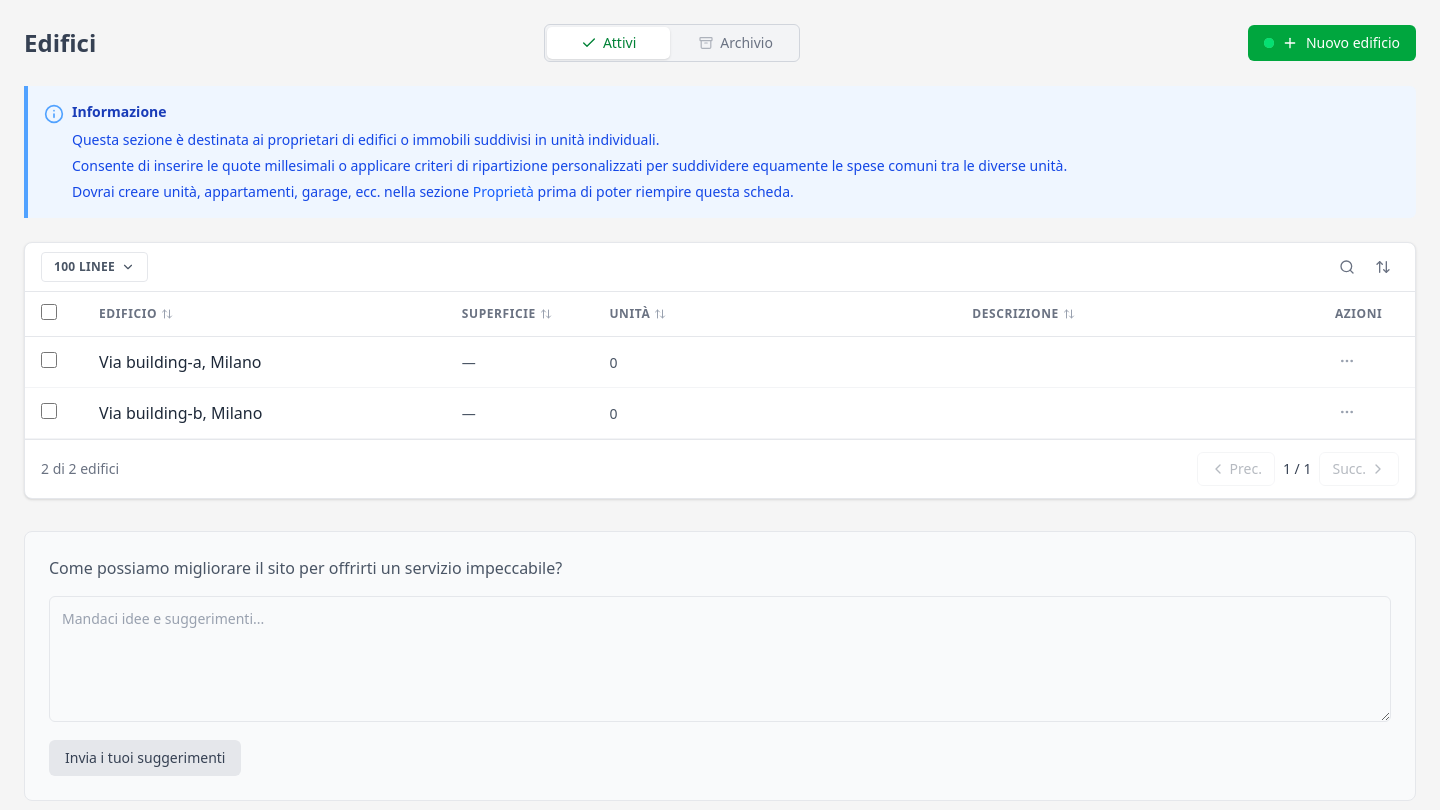
Scenario: A5.2 building lifecycle actions › A5.2-05 preserves bulk archive selection on cancel and clears it on success
This screenshot has width=1440, height=810.
Click the checkbox next to "Via building-a, Milano". click: x=49, y=360
box: x1=41 y1=352 x2=57 y2=368
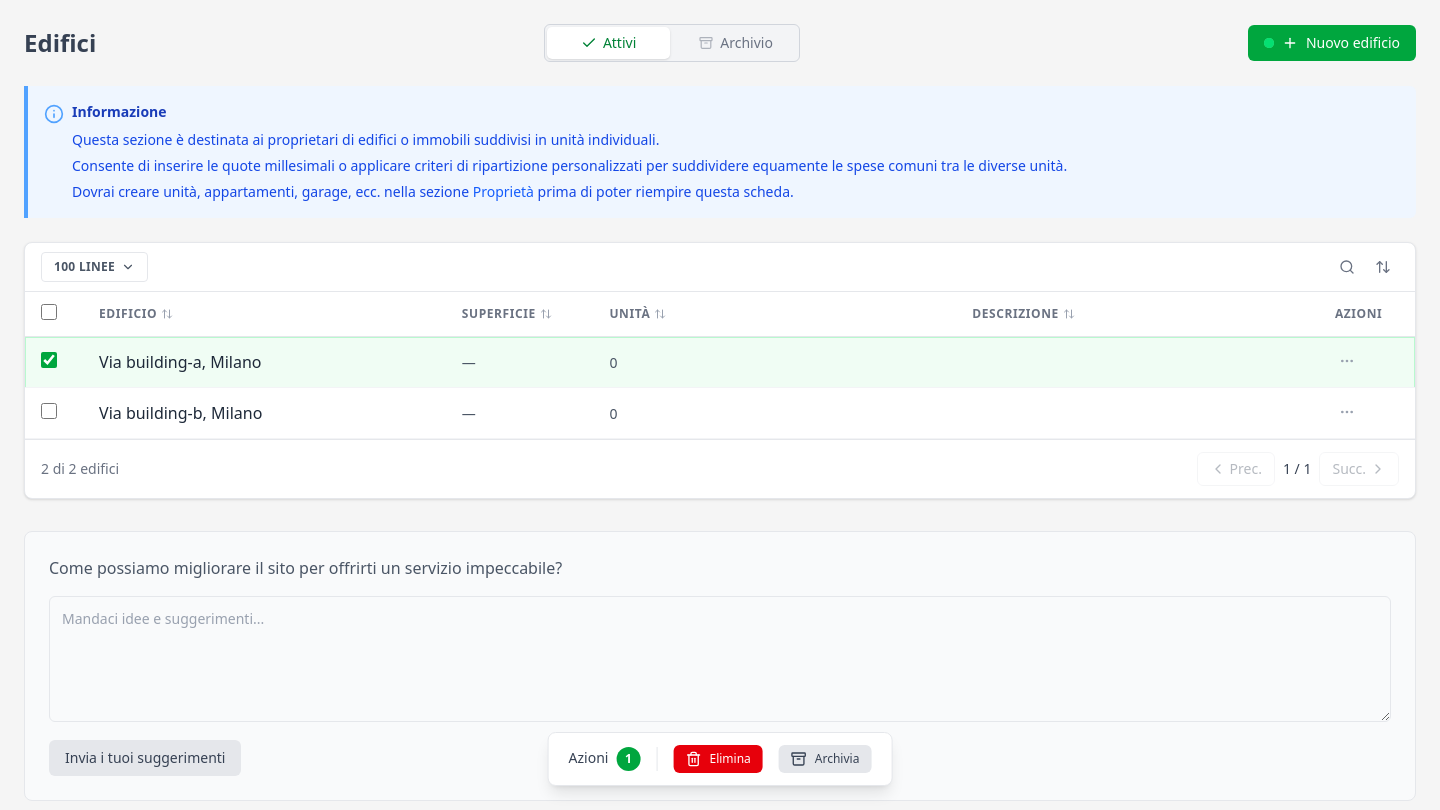
Click the checkbox next to "Via building-b, Milano". click: x=49, y=411
box: x1=41 y1=403 x2=57 y2=419
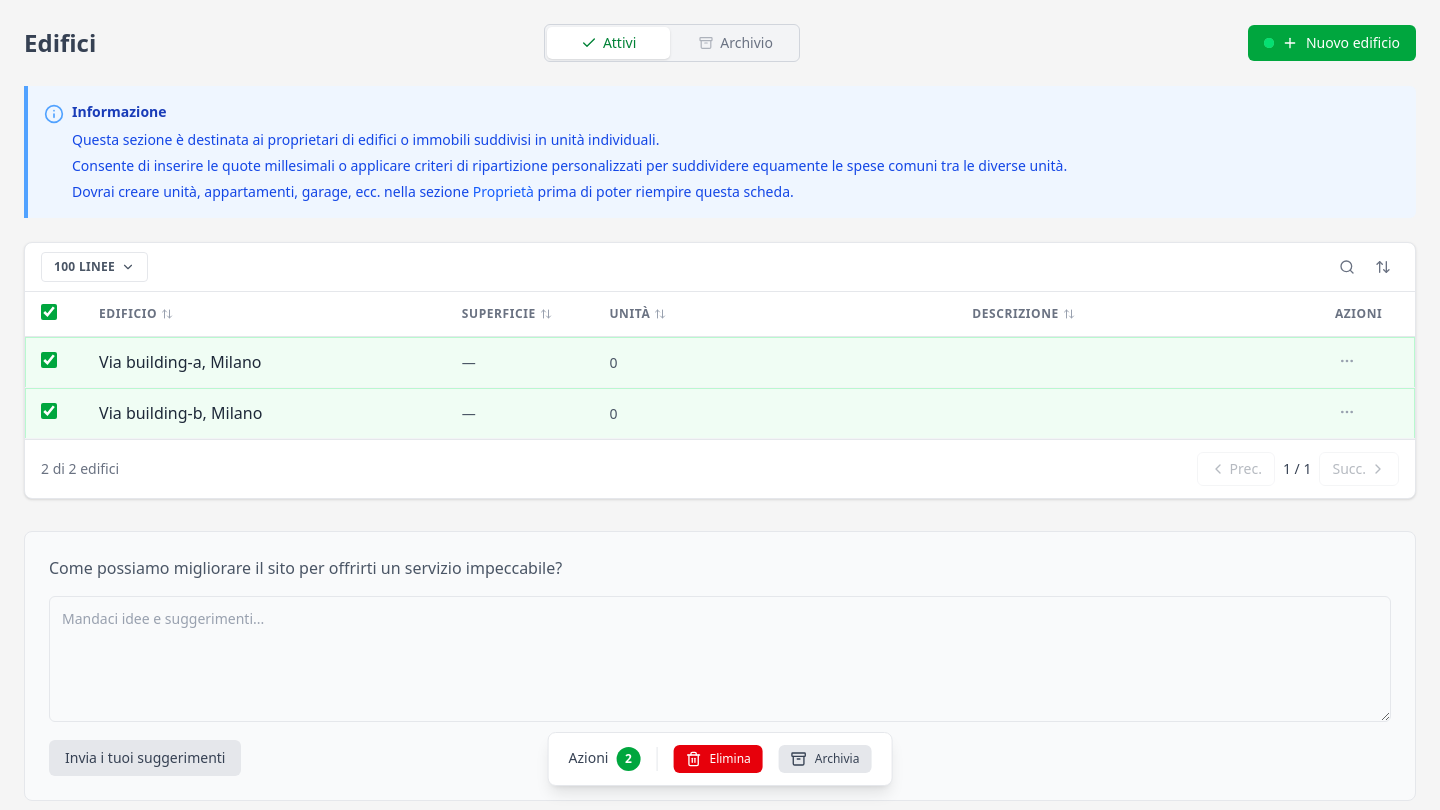
Expected: the button "Archivia" is shown
Click the button "Archivia". click: x=825, y=759
box: x1=779 y1=745 x2=871 y2=773
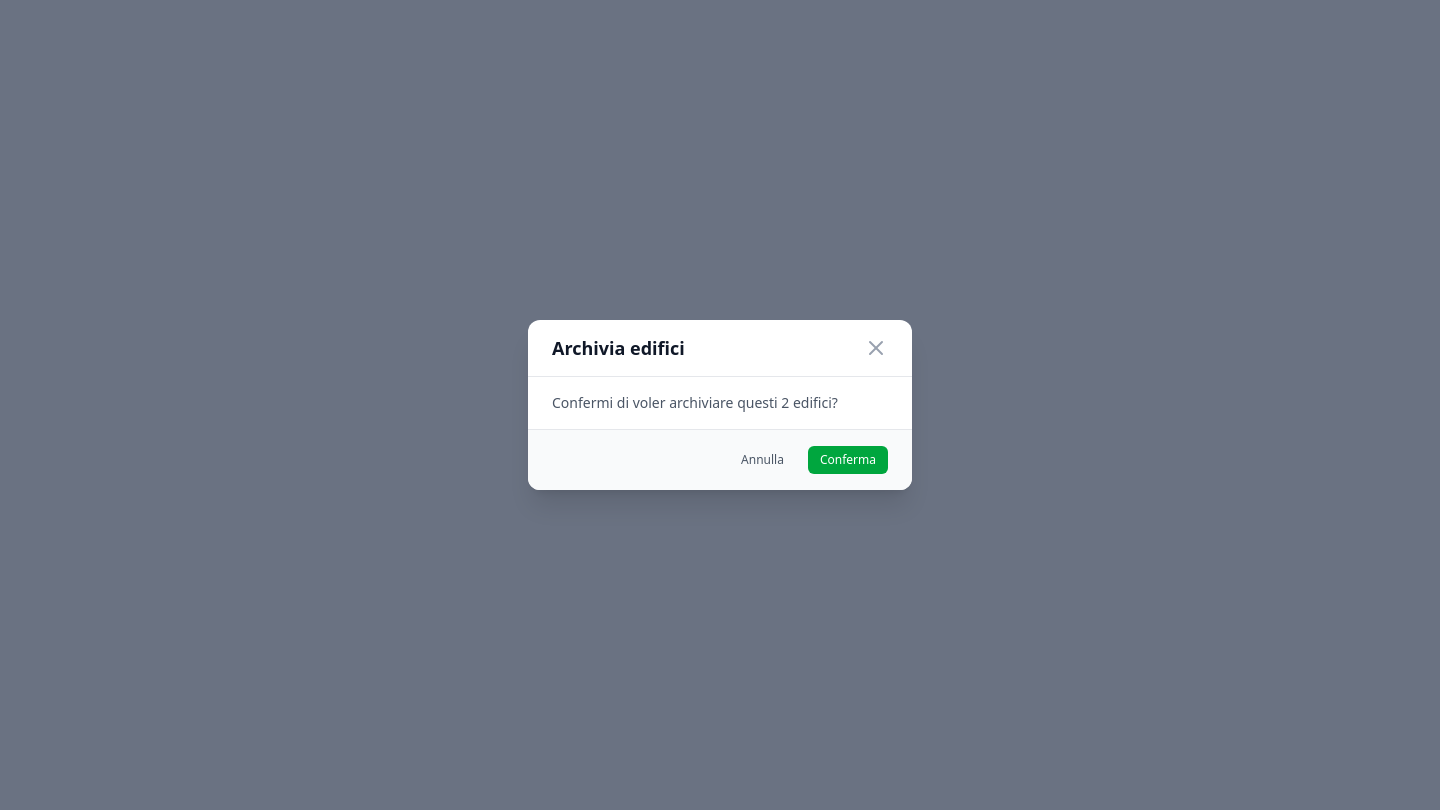
Expected: the heading "Archivia edifici" is shown, x1=552 y1=336 x2=685 y2=360
Expected: the text "Confermi di voler archiviare questi 2 edifici?" is shown, x1=552 y1=393 x2=888 y2=413
Click the button "Annulla". click: x=762, y=460
box: x1=729 y1=446 x2=796 y2=474
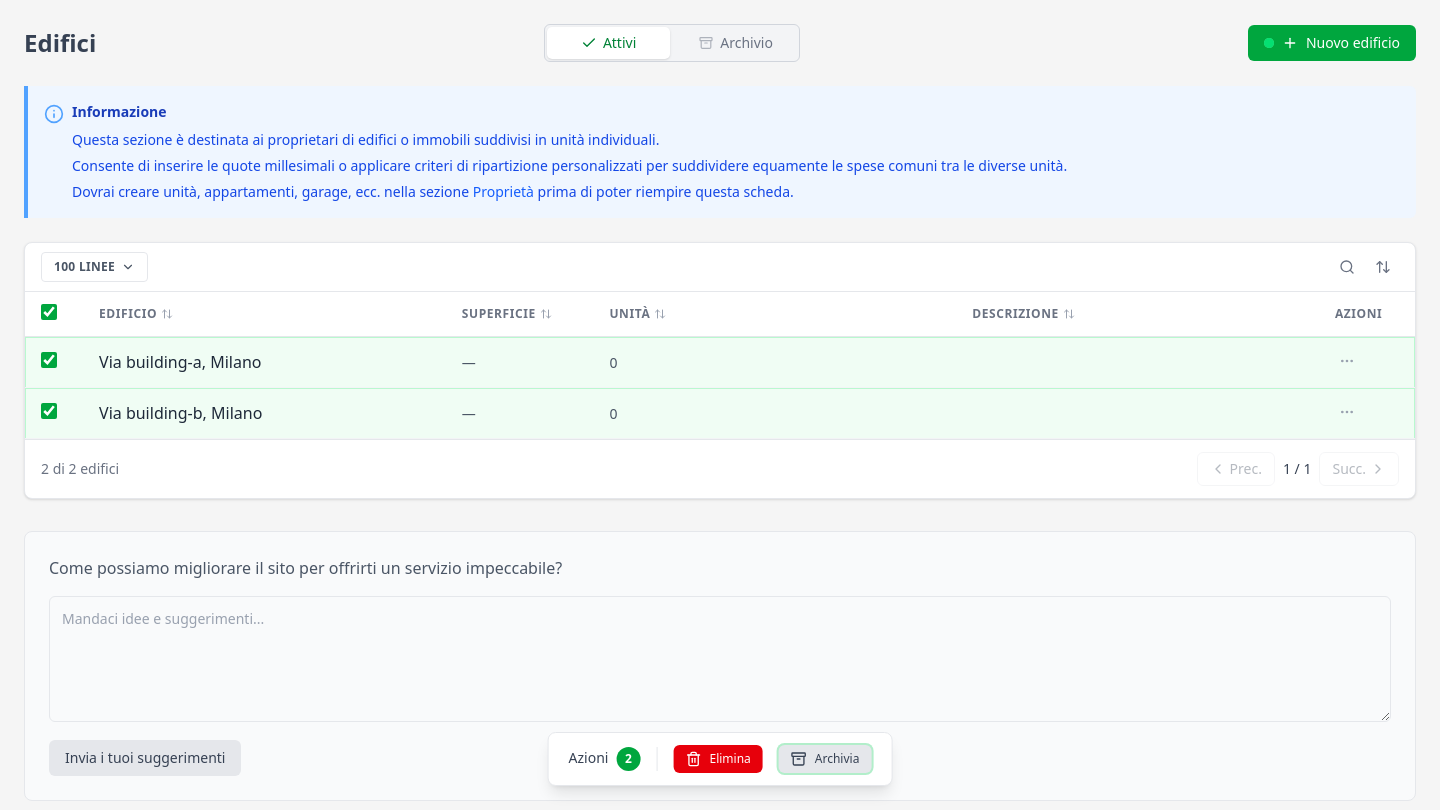
Click the button "Archivia". click: x=825, y=759
box: x1=779 y1=745 x2=871 y2=773
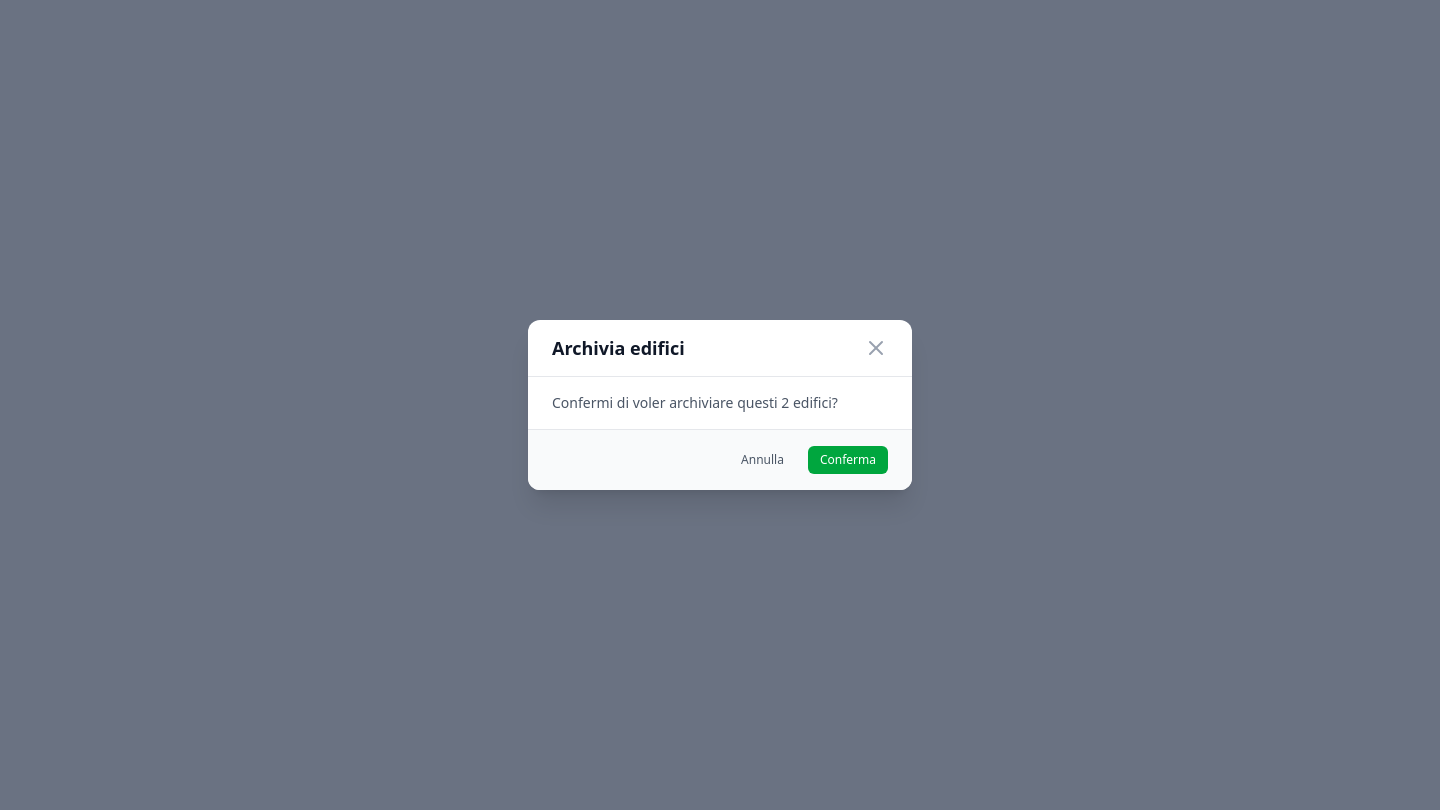
Click the button "Conferma". click: x=848, y=460
box: x1=808 y1=446 x2=888 y2=474
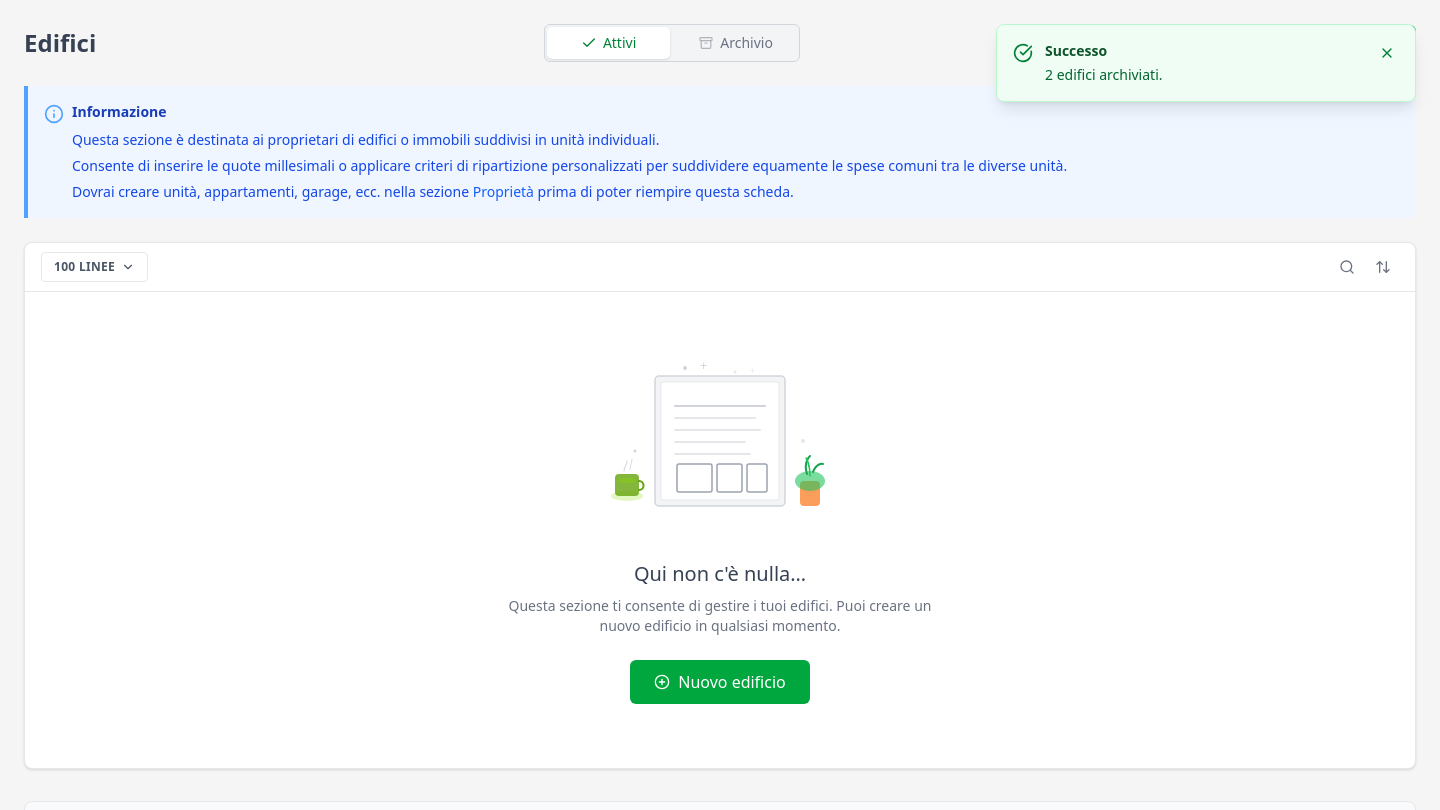
Expected: the button "Elimina" is gone
Expected: the message shows "2 edifici archiviati.", x1=1045 y1=65 x2=1162 y2=84
